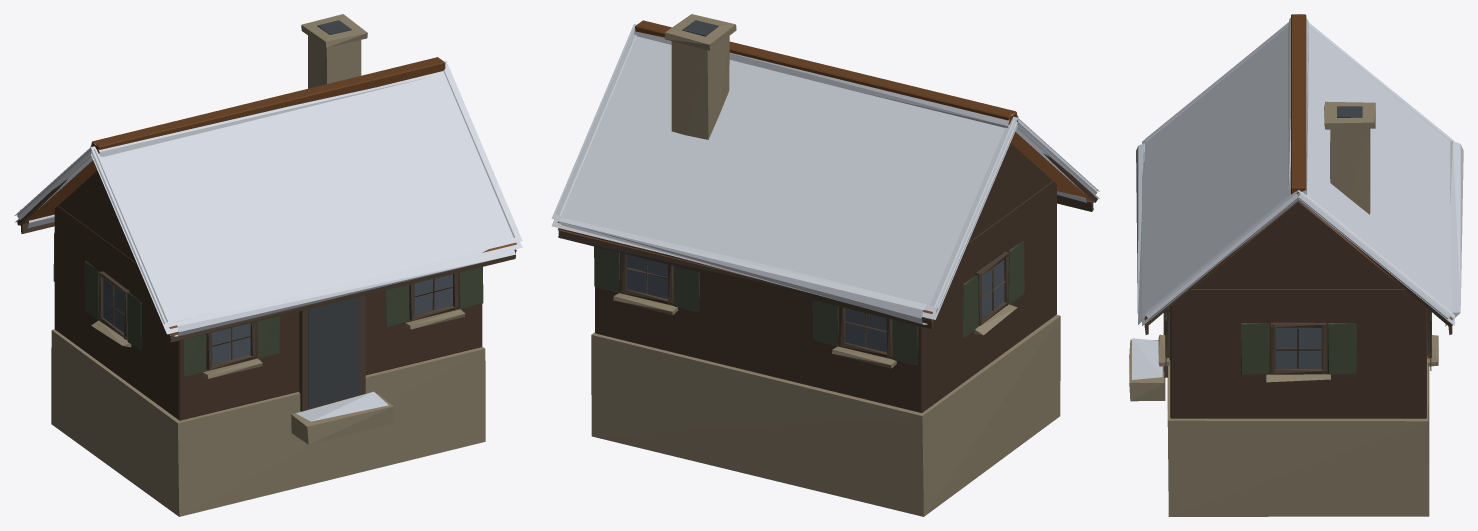
Rendered from log-cabin-snow-lod1.glb.
3 renders of one model, left to right at view 1: azimuth 30°, elevation 25°; view 2: azimuth 150°, elevation 25°; view 3: azimuth 270°, elevation 25°, orthographic. The views are drawn at different scales.
Size of the model in its own units: 8.2 by 8.04 by 6.52.
